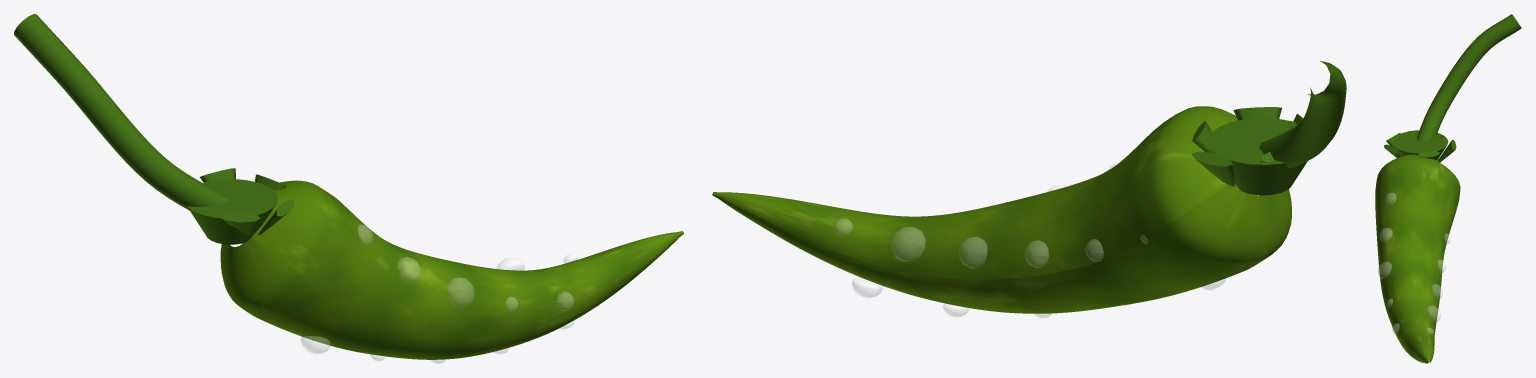
Rendered from green-chili.glb.
The picture shows the model from 3 angles, left to right: view 1: azimuth 30°, elevation 25°; view 2: azimuth 150°, elevation 25°; view 3: azimuth 270°, elevation 25°; orthographic projection. The views are drawn at different scales.
Parts seen in each view (by area): view 1: green-chili-pod, green-chili-calyx, green-chili; view 2: green-chili-pod, green-chili-calyx, green-chili; view 3: green-chili-pod, green-chili-calyx, green-chili.
Boxes of the visible parts, left/top/right/bottom form: green-chili-pod: left=220, top=180, right=683, bottom=359; green-chili-calyx: left=14, top=14, right=294, bottom=244; green-chili: left=301, top=225, right=577, bottom=363; green-chili-pod: left=712, top=106, right=1291, bottom=313; green-chili-calyx: left=1191, top=60, right=1346, bottom=195; green-chili: left=835, top=162, right=1225, bottom=317; green-chili-pod: left=1375, top=154, right=1460, bottom=363; green-chili-calyx: left=1384, top=14, right=1521, bottom=162; green-chili: left=1378, top=193, right=1457, bottom=362.
Size of the model in its own units: 0.0851 by 0.0507 by 0.0308.
Materials: 3 (1 with a texture image).
